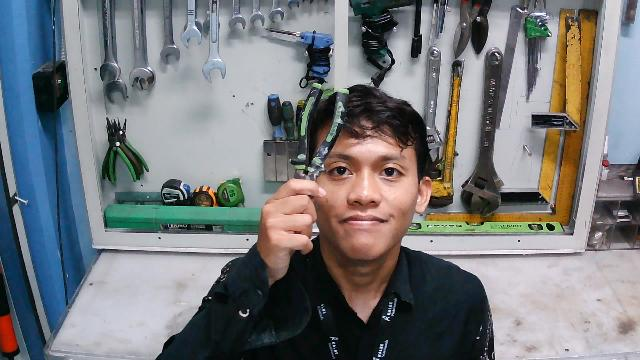tang_kombinasi: (289, 83, 348, 238)
